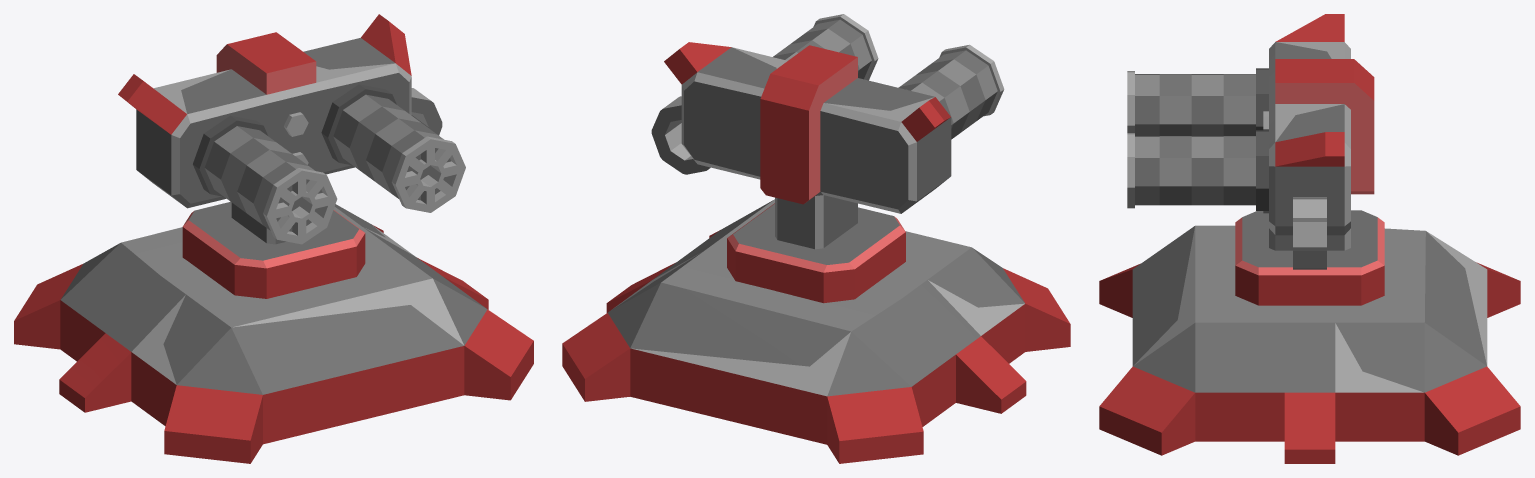
The model's file is tower_gatling_red_2.fbx.
3 renders of one model, left to right at view 1: azimuth 30°, elevation 25°; view 2: azimuth 150°, elevation 25°; view 3: azimuth 270°, elevation 25°, orthographic. The views are drawn at different scales.
Visible parts, largest first — view 1: tower_gatling_red_2, top_gatling_red_2; view 2: tower_gatling_red_2, top_gatling_red_2; view 3: tower_gatling_red_2, top_gatling_red_2.
Boxes of the visible parts, x1,y1,x2,y2 form: tower_gatling_red_2: (14, 204, 533, 463); top_gatling_red_2: (118, 14, 465, 298); tower_gatling_red_2: (562, 199, 1070, 463); top_gatling_red_2: (651, 14, 1004, 303); tower_gatling_red_2: (1099, 225, 1520, 463); top_gatling_red_2: (1127, 14, 1384, 305).
Bounding box in the file's own units: 173 × 122 × 158.
